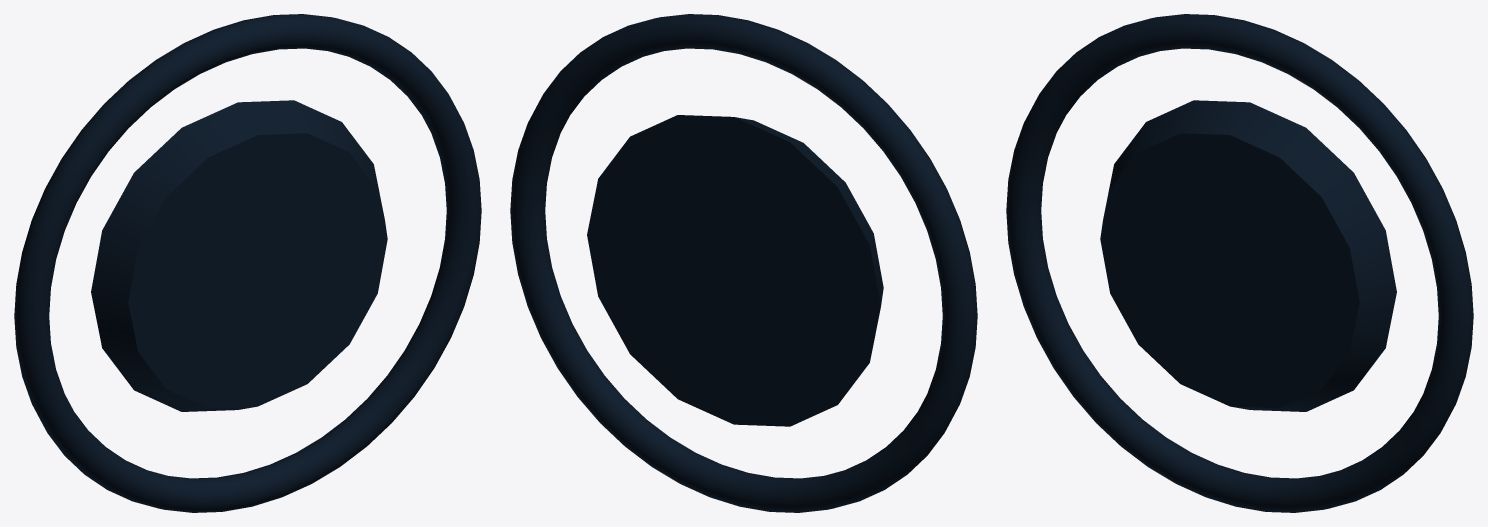
Rendered from command-core.glb.
3 views of the same model, side by side, from view 1: azimuth 30°, elevation 25°; view 2: azimuth 150°, elevation 25°; view 3: azimuth 330°, elevation 25° (orthographic).
Parts seen in each view (by area): view 1: core_inner_hub, core_outer_housing; view 2: core_inner_hub, core_outer_housing; view 3: core_inner_hub, core_outer_housing.
Part boxes in pixels (x1,y1,x2,y2): core_inner_hub: (91,100,387,411); core_outer_housing: (14,14,481,512); core_inner_hub: (587,115,883,426); core_outer_housing: (510,14,977,512); core_inner_hub: (1100,100,1396,411); core_outer_housing: (1006,14,1473,512).
Bounding box in the file's own units: 1.07 × 1.07 × 0.08.
